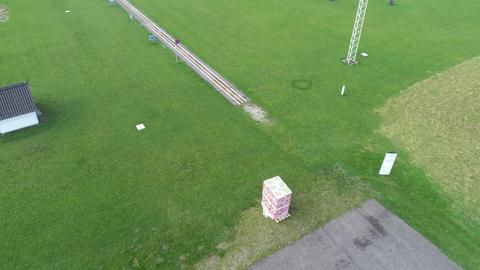RockwoolPallet: (261, 175, 292, 221)
